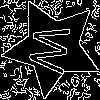W: (27, 22, 80, 77)
